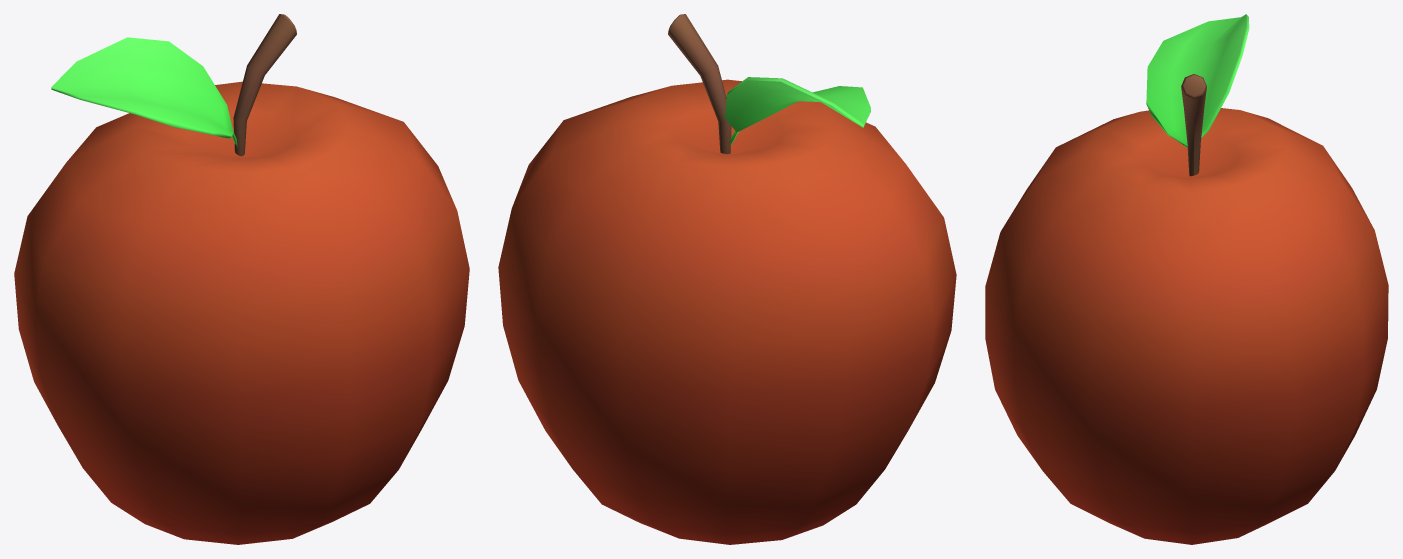
The model's file is Apple.fbx.
The picture shows the model from 3 angles, left to right: view 1: azimuth 30°, elevation 25°; view 2: azimuth 150°, elevation 25°; view 3: azimuth 270°, elevation 25°; orthographic projection. The views are drawn at different scales.
Parts seen in each view (by area): view 1: Apple; view 2: Apple; view 3: Apple.
Part boxes in pixels (<box>): Apple: <box>14,14,469,544</box>; Apple: <box>498,14,956,544</box>; Apple: <box>985,14,1388,544</box>.
Bounding box in the file's own units: 91.86 × 103 × 82.46.
